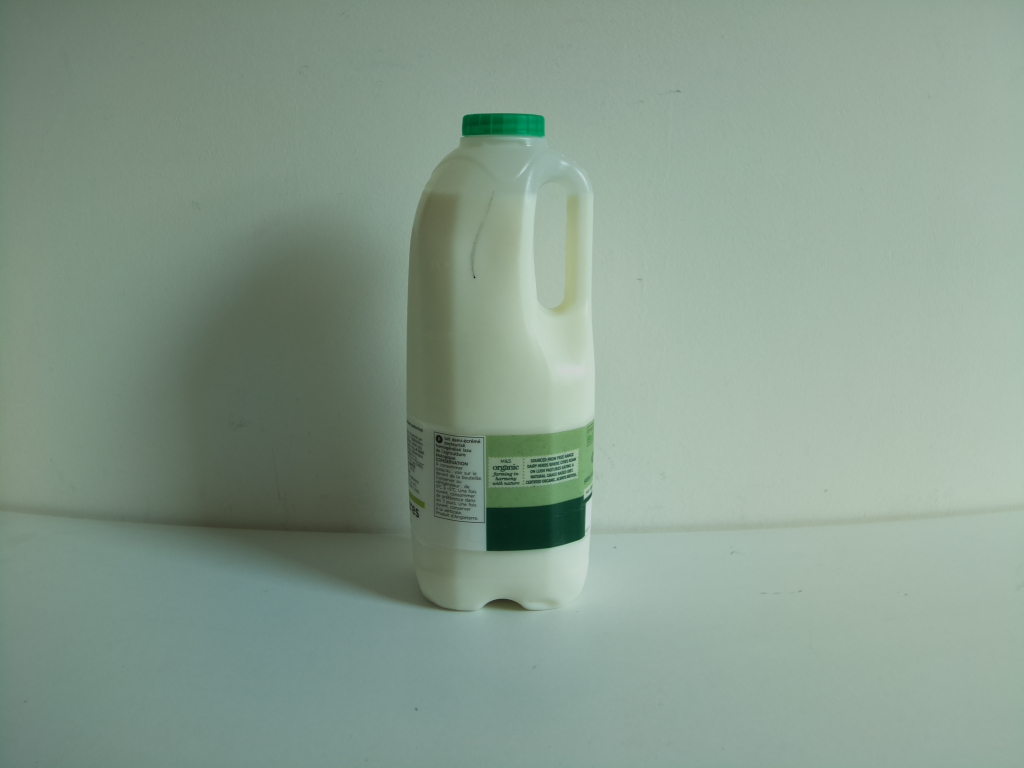milk: (405, 110, 598, 617)
